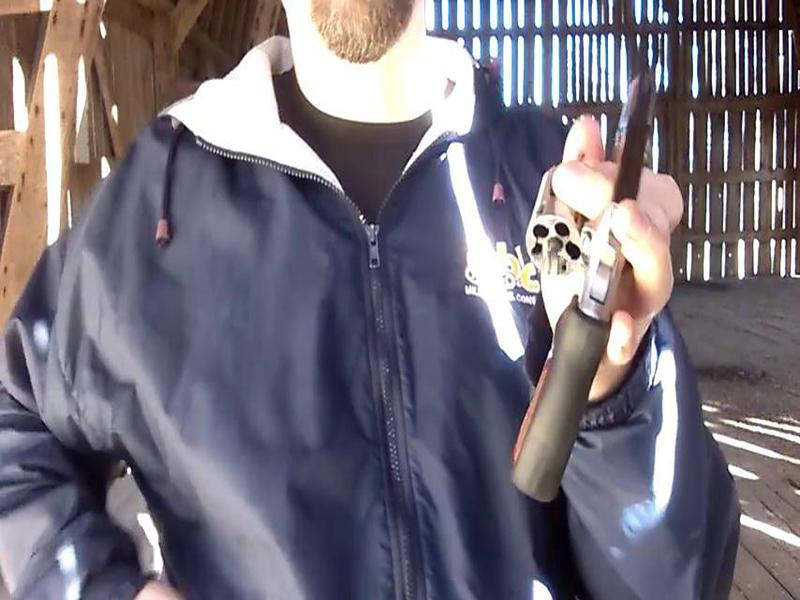Revolver: (524, 41, 713, 495)
